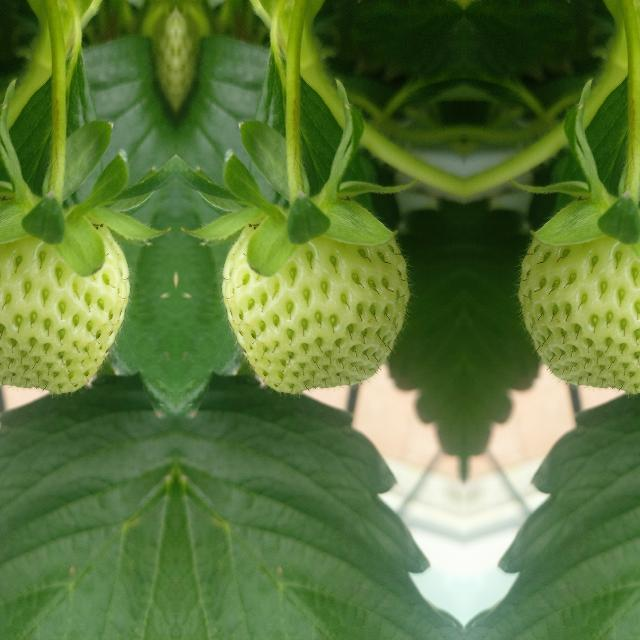Health_25: (220, 225, 408, 393), (0, 225, 129, 393), (518, 225, 640, 393)
